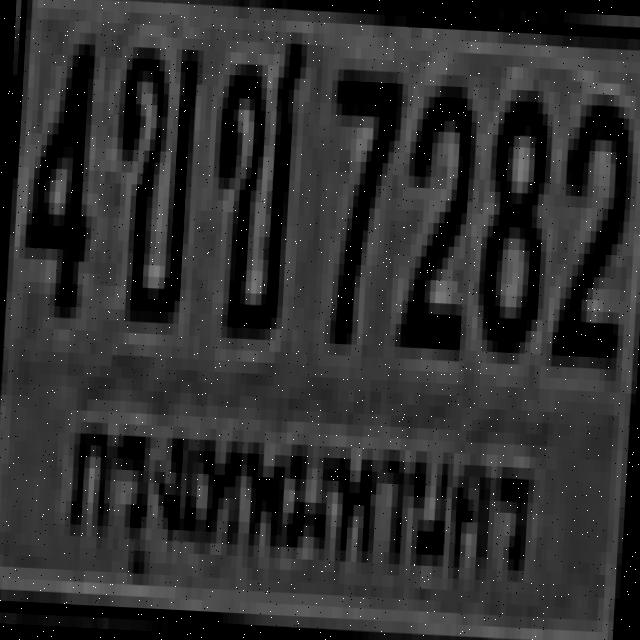11KhorKhai: (109, 35, 199, 313)
19ChorChang: (206, 29, 303, 330)
2: (546, 92, 630, 358), (395, 73, 474, 339)
4: (20, 30, 94, 308)
7: (320, 57, 398, 336)
8: (474, 77, 547, 343)
Bangkok: (55, 402, 535, 602)
